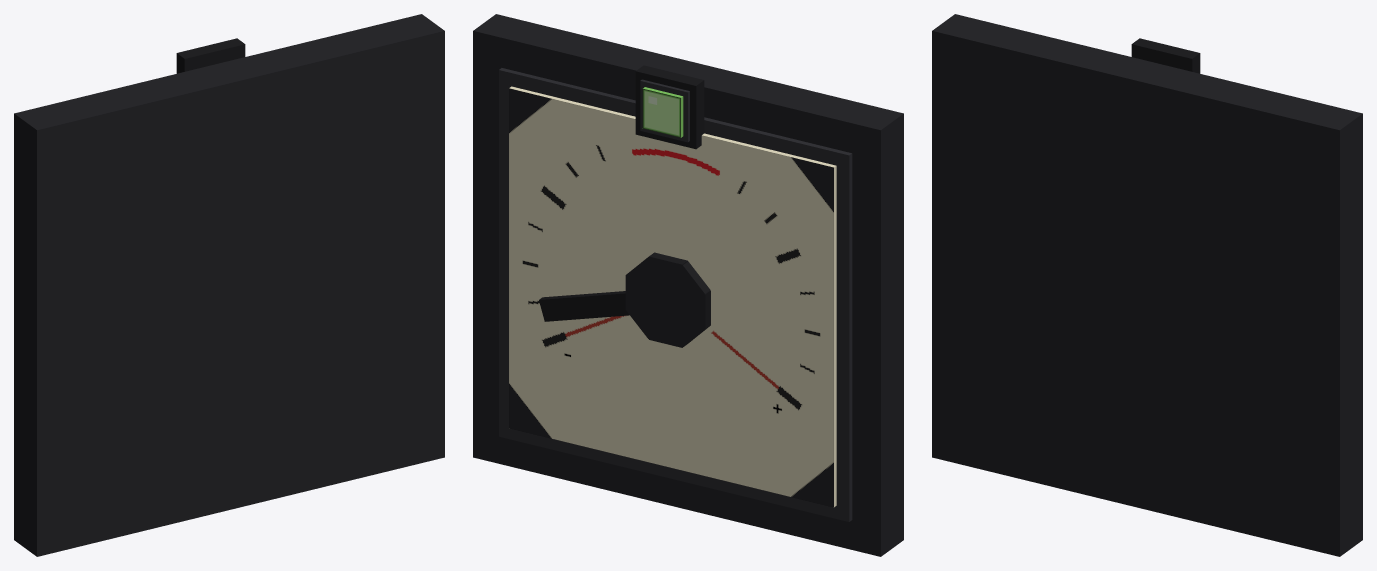
File: gauge_fan_lamp.obj
3 views of the same model, side by side, from view 1: azimuth 30°, elevation 25°; view 2: azimuth 150°, elevation 25°; view 3: azimuth 330°, elevation 25° (orthographic).
Parts seen in each view (by area): view 1: Frame, Lamp; view 2: Face, Frame, Hub, Lamp, Needle; view 3: Frame, Lamp.
Boxes of the visible parts, left/top/right/bottom form: Frame: left=14, top=14, right=444, bottom=556; Lamp: left=176, top=38, right=245, bottom=73; Face: left=509, top=86, right=836, bottom=507; Frame: left=473, top=14, right=903, bottom=556; Hub: left=625, top=252, right=710, bottom=347; Lamp: left=635, top=65, right=704, bottom=149; Needle: left=539, top=291, right=629, bottom=321; Frame: left=932, top=14, right=1362, bottom=556; Lamp: left=1131, top=38, right=1200, bottom=73.
Size of the model in its own units: 0.8 by 0.8187 by 0.1294.
1 material, 1 textured.
